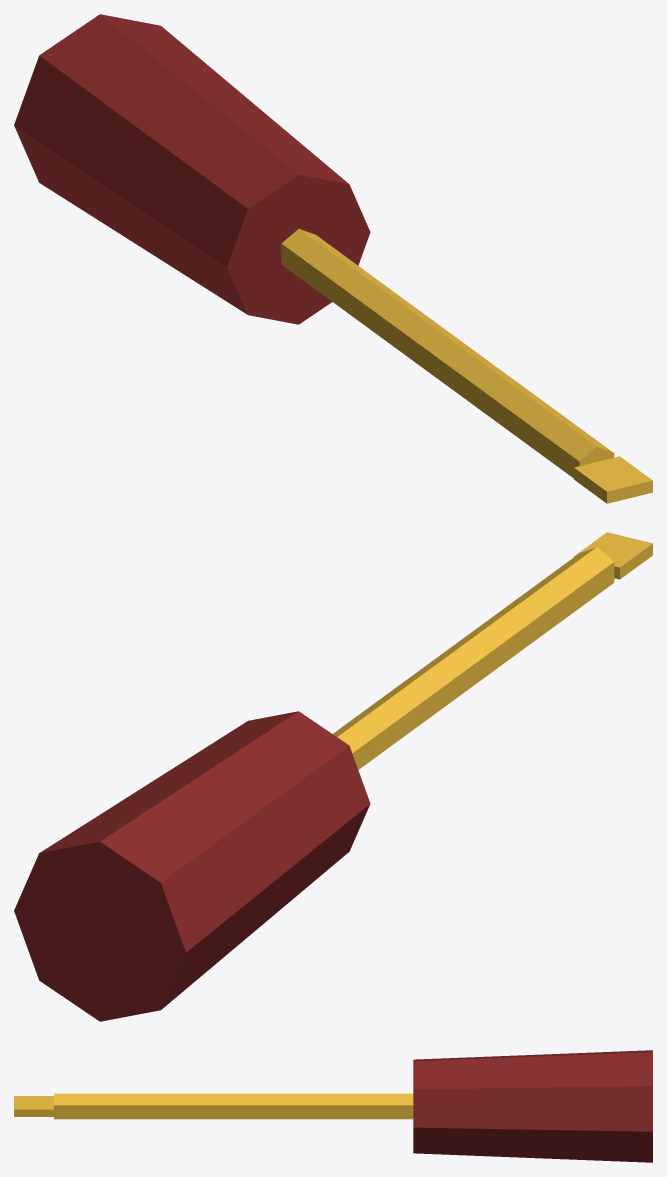
File: super_golden_screwdriver.glb
3 renders of one model, top to bottom at view 1: azimuth 30°, elevation 25°; view 2: azimuth 150°, elevation 25°; view 3: azimuth 270°, elevation 25°, orthographic. The views are drawn at different scales.
Parts seen in each view (by area): view 1: handle_driver_handle, shaft_driver_gold, tip_driver_gold; view 2: handle_driver_handle, shaft_driver_gold, tip_driver_gold; view 3: handle_driver_handle, shaft_driver_gold, tip_driver_gold.
Boxes of the visible parts, box(x1,y1,x2,y2) form: handle_driver_handle: box(14, 14, 370, 324); shaft_driver_gold: box(281, 229, 614, 478); tip_driver_gold: box(574, 456, 652, 503); handle_driver_handle: box(14, 711, 370, 1021); shaft_driver_gold: box(333, 547, 614, 769); tip_driver_gold: box(574, 532, 652, 579); handle_driver_handle: box(413, 1050, 652, 1162); shaft_driver_gold: box(54, 1093, 413, 1119); tip_driver_gold: box(14, 1096, 53, 1116).
Size of the model in its own units: 0.06 by 0.06 by 0.32.
